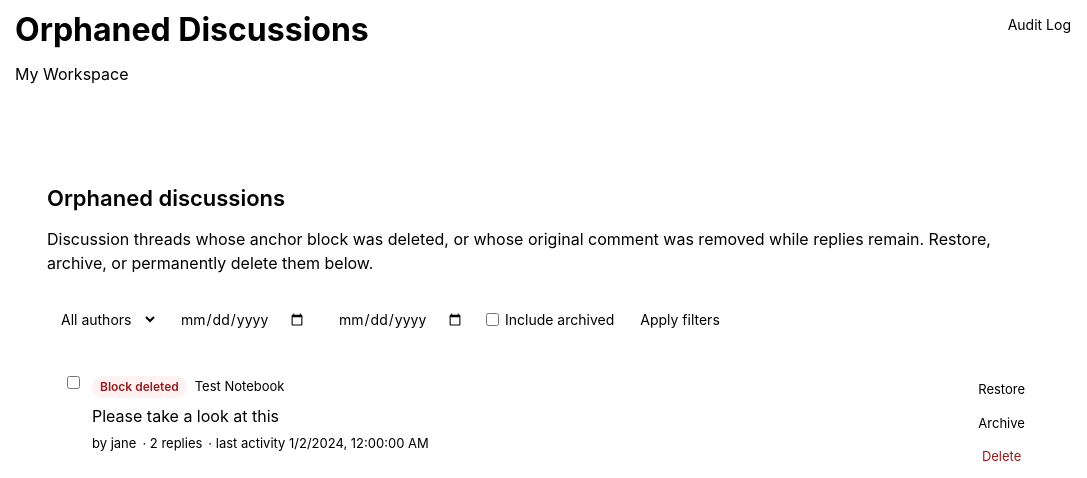
Test: OrphanedDiscussionsPanel › archives a thread and removes it from the default list
Click the button "Archive".
click(1002, 423)  # box [968,410,1035,437]
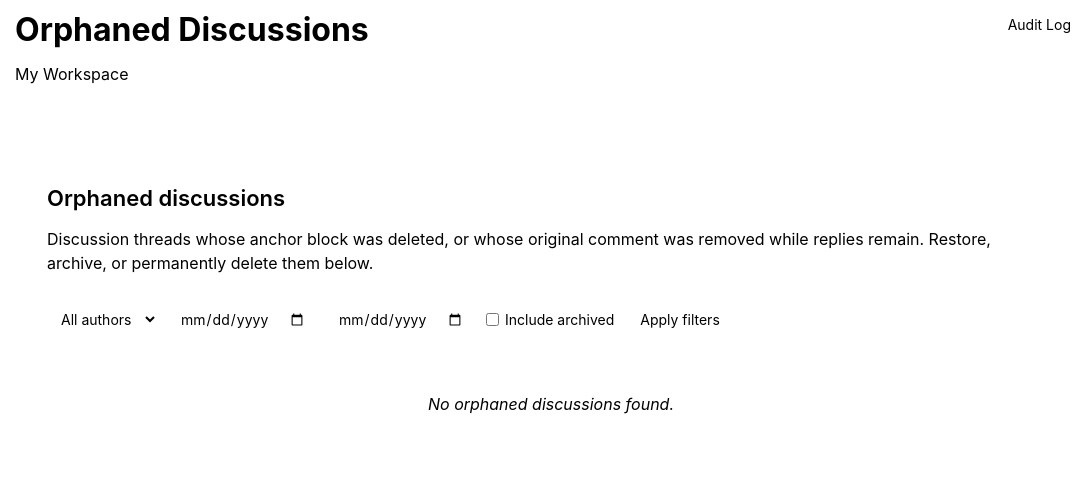
Now the text "No orphaned discussions found" is shown, box [428,394,674,414]
